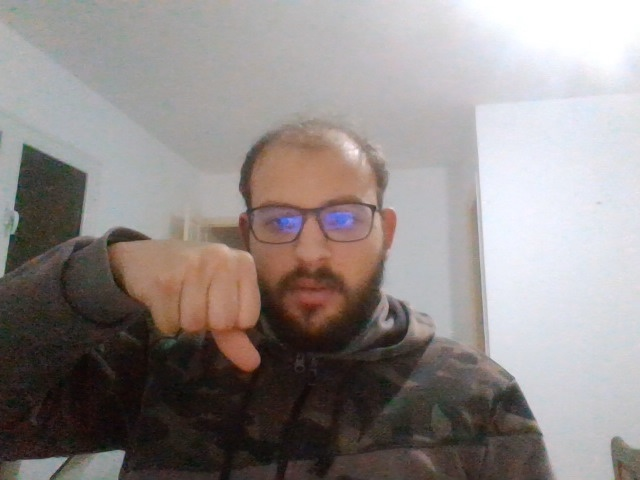Yes: (152, 246, 260, 371)
